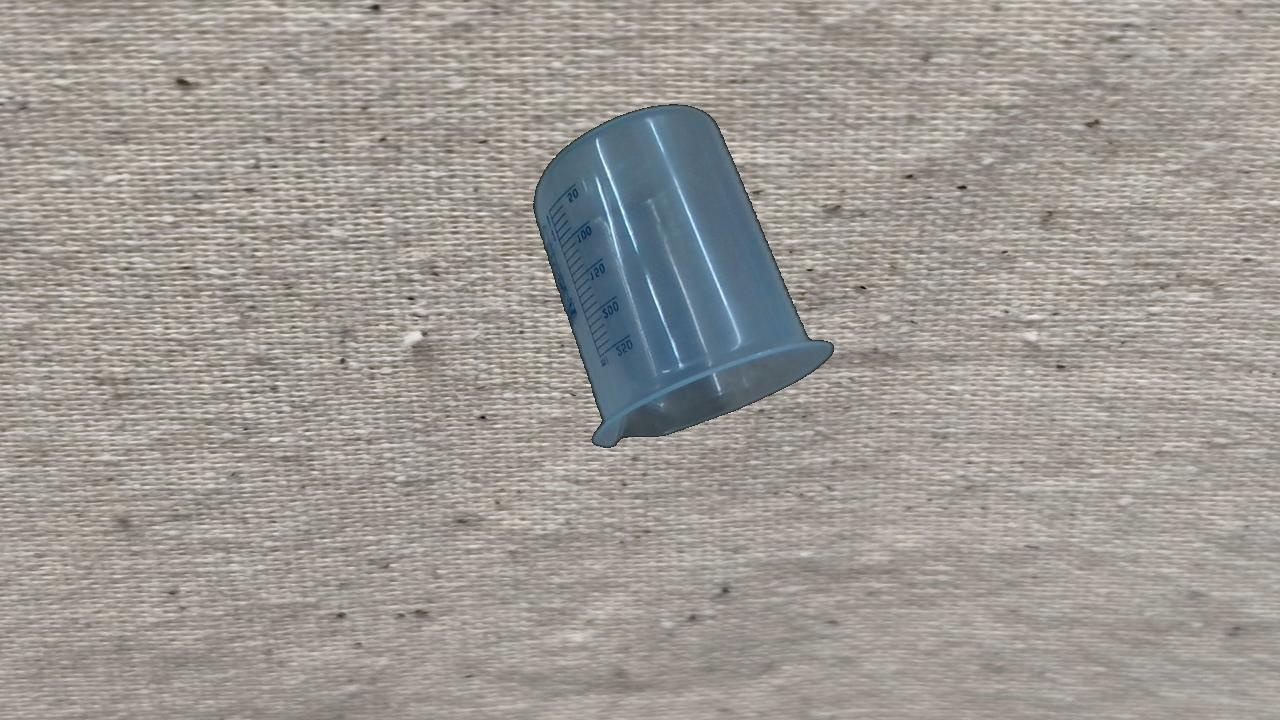cup: (530, 103, 836, 450)
